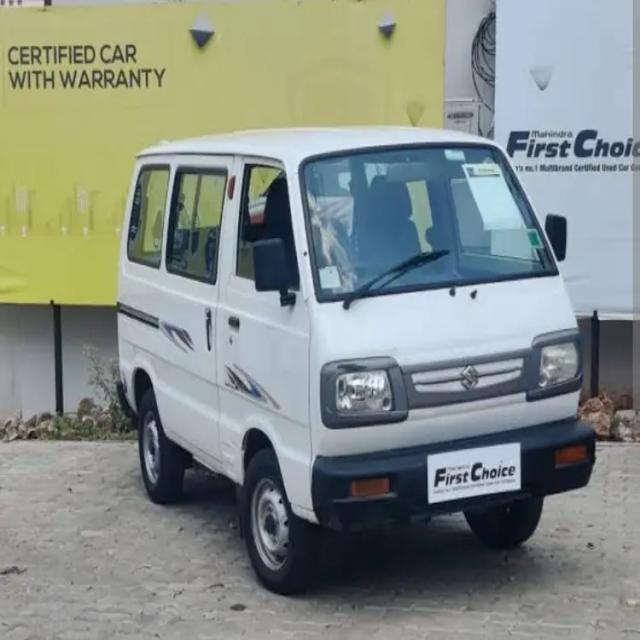Ambulance: (111, 122, 599, 598), (0, 431, 639, 639), (443, 0, 639, 418)
